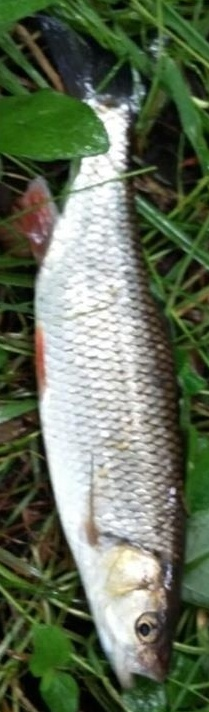Leuciscus cephalus: (20, 20, 189, 692)
